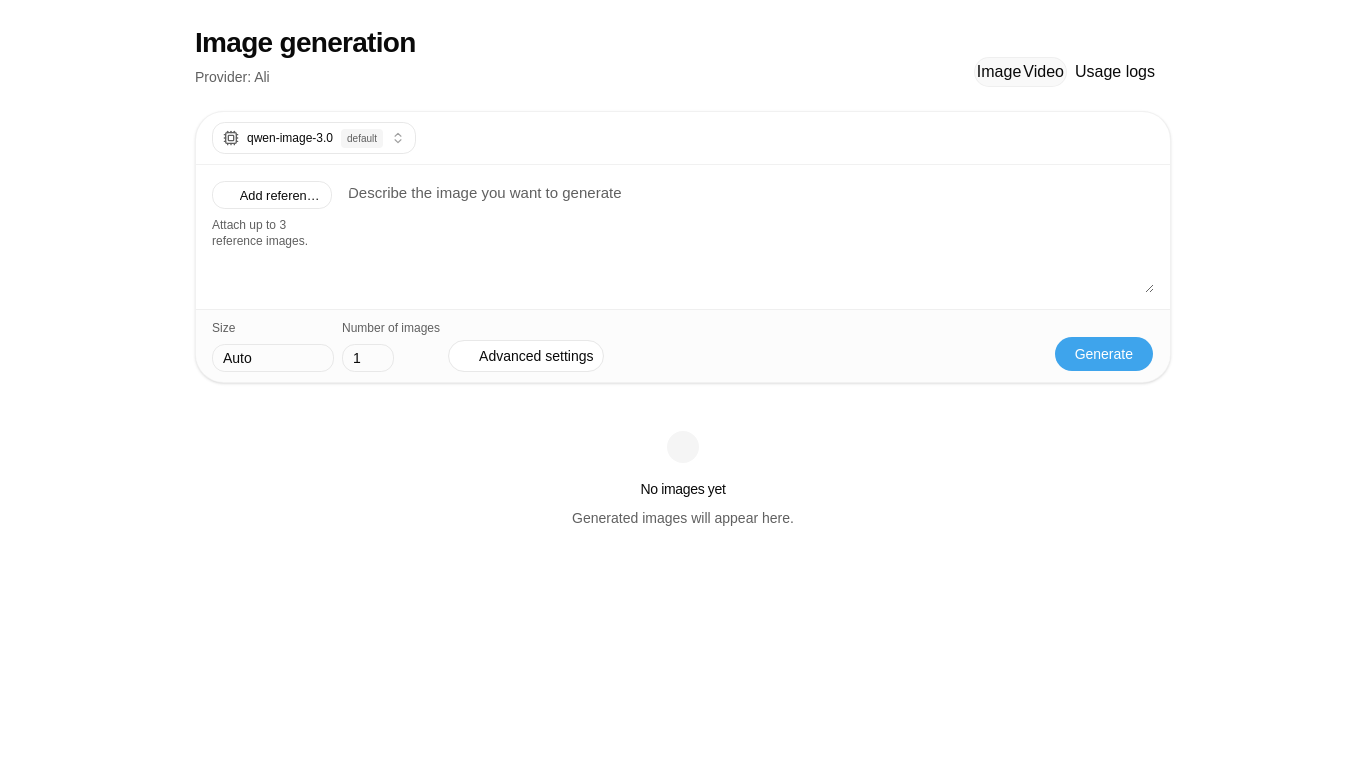
Test: ImagePlayground Qwen Image 3.0 form › shows prompt extend mode and enable thinking controls for Qwen 3.0
This screenshot has width=1366, height=768.
Expected: the button "Generate" is shown, [1054,336,1154,372]
Click the button "Advanced settings": (526, 356) [448,340,604,372]
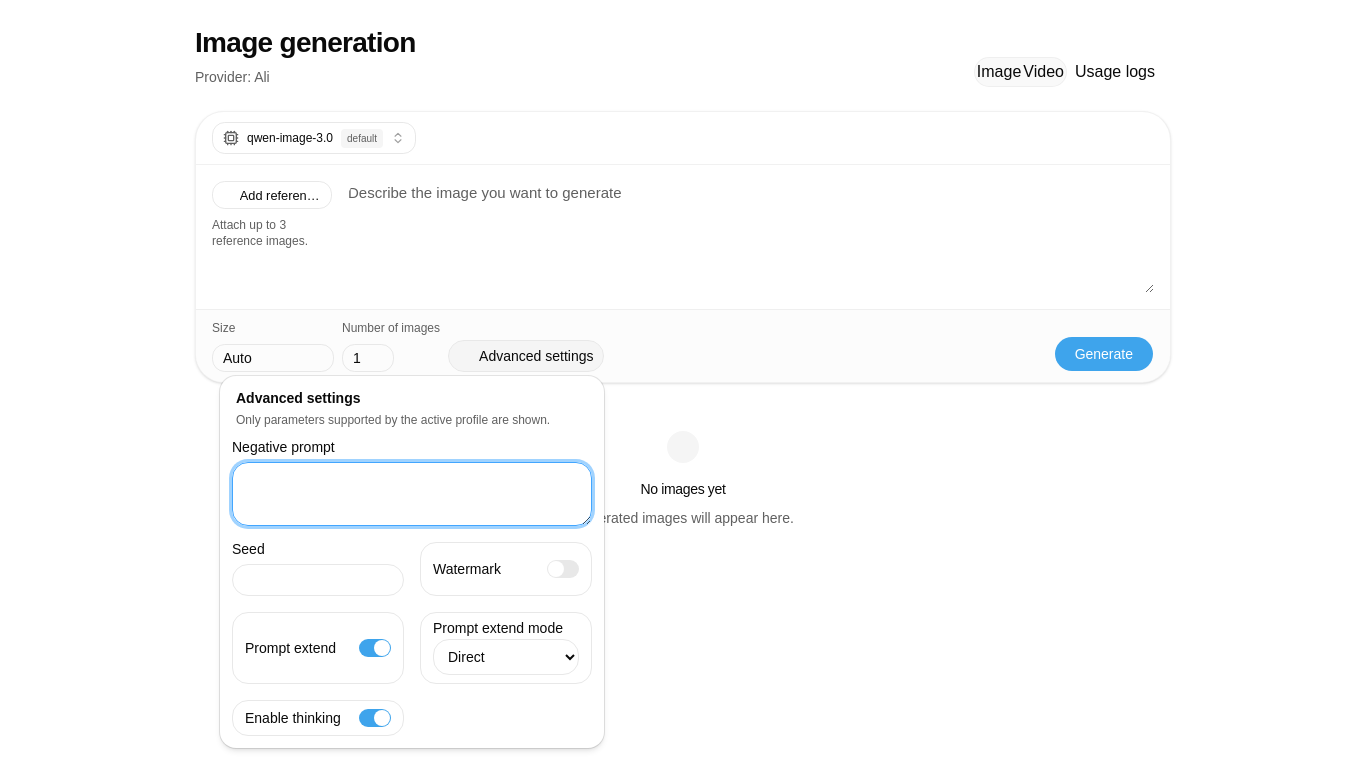
Expected: the dropdown labelled "Prompt extend mode" is shown, [433,639,579,675]
Expected: the switch named "Enable thinking" next to "Enable thinking" is shown, [359,709,391,727]
